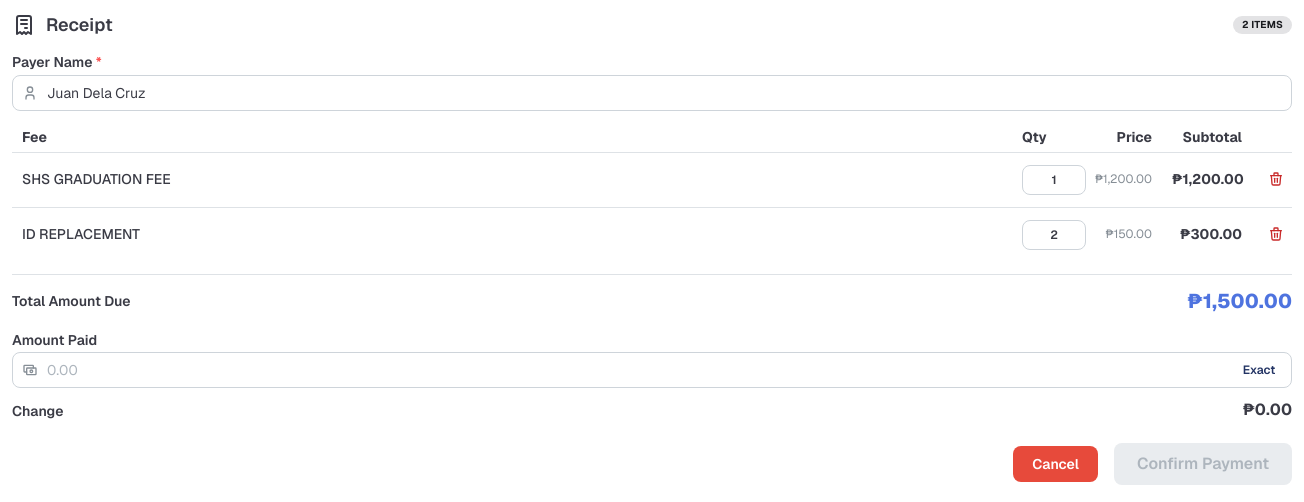
Test: TransactionDraftPanel — Exact › fills Amount Paid with the total in one click
Click the button with aria-label "Fill Amount Paid with the exact total": (1259, 370) [1235,359,1283,381]
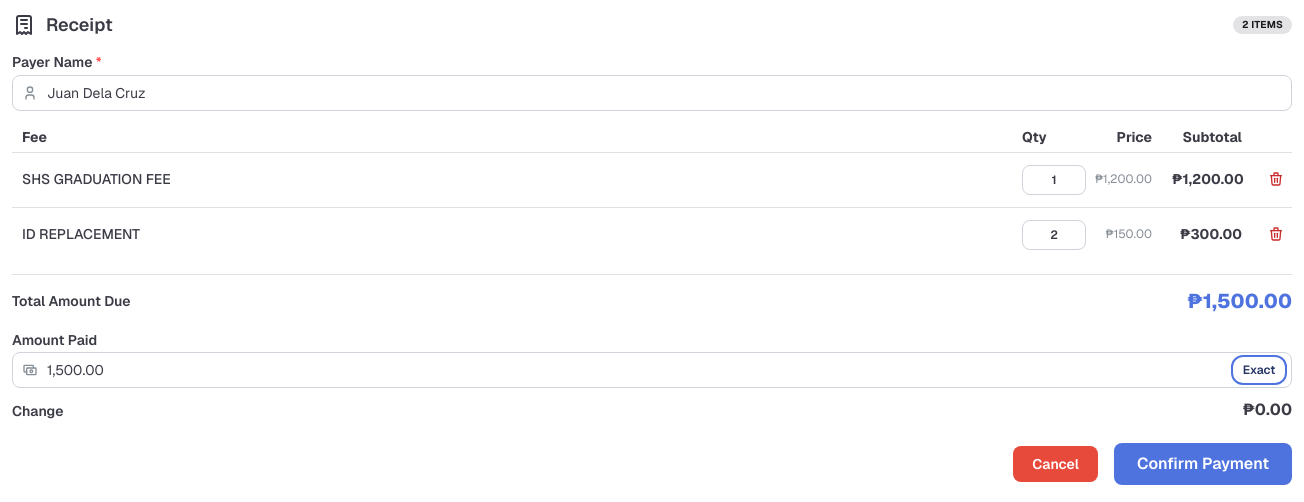
Expected: the field labelled "Amount Paid" holds "1,500.00", [12,352,1292,388]
